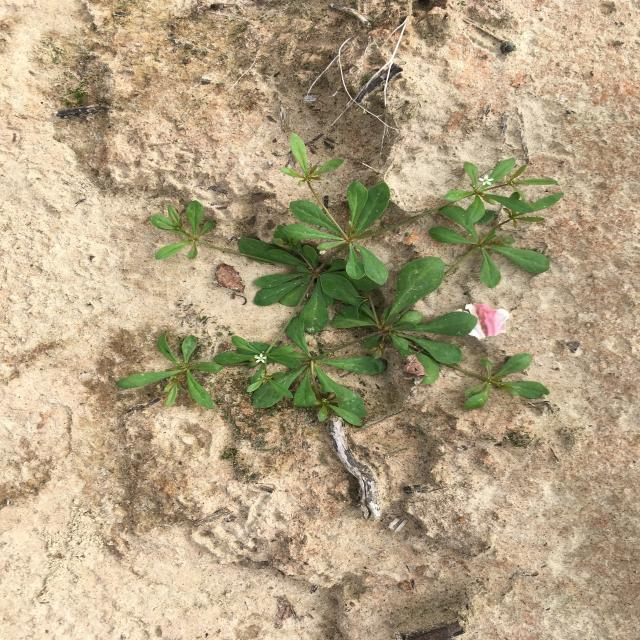Carpetweed: (115, 132, 564, 426)
